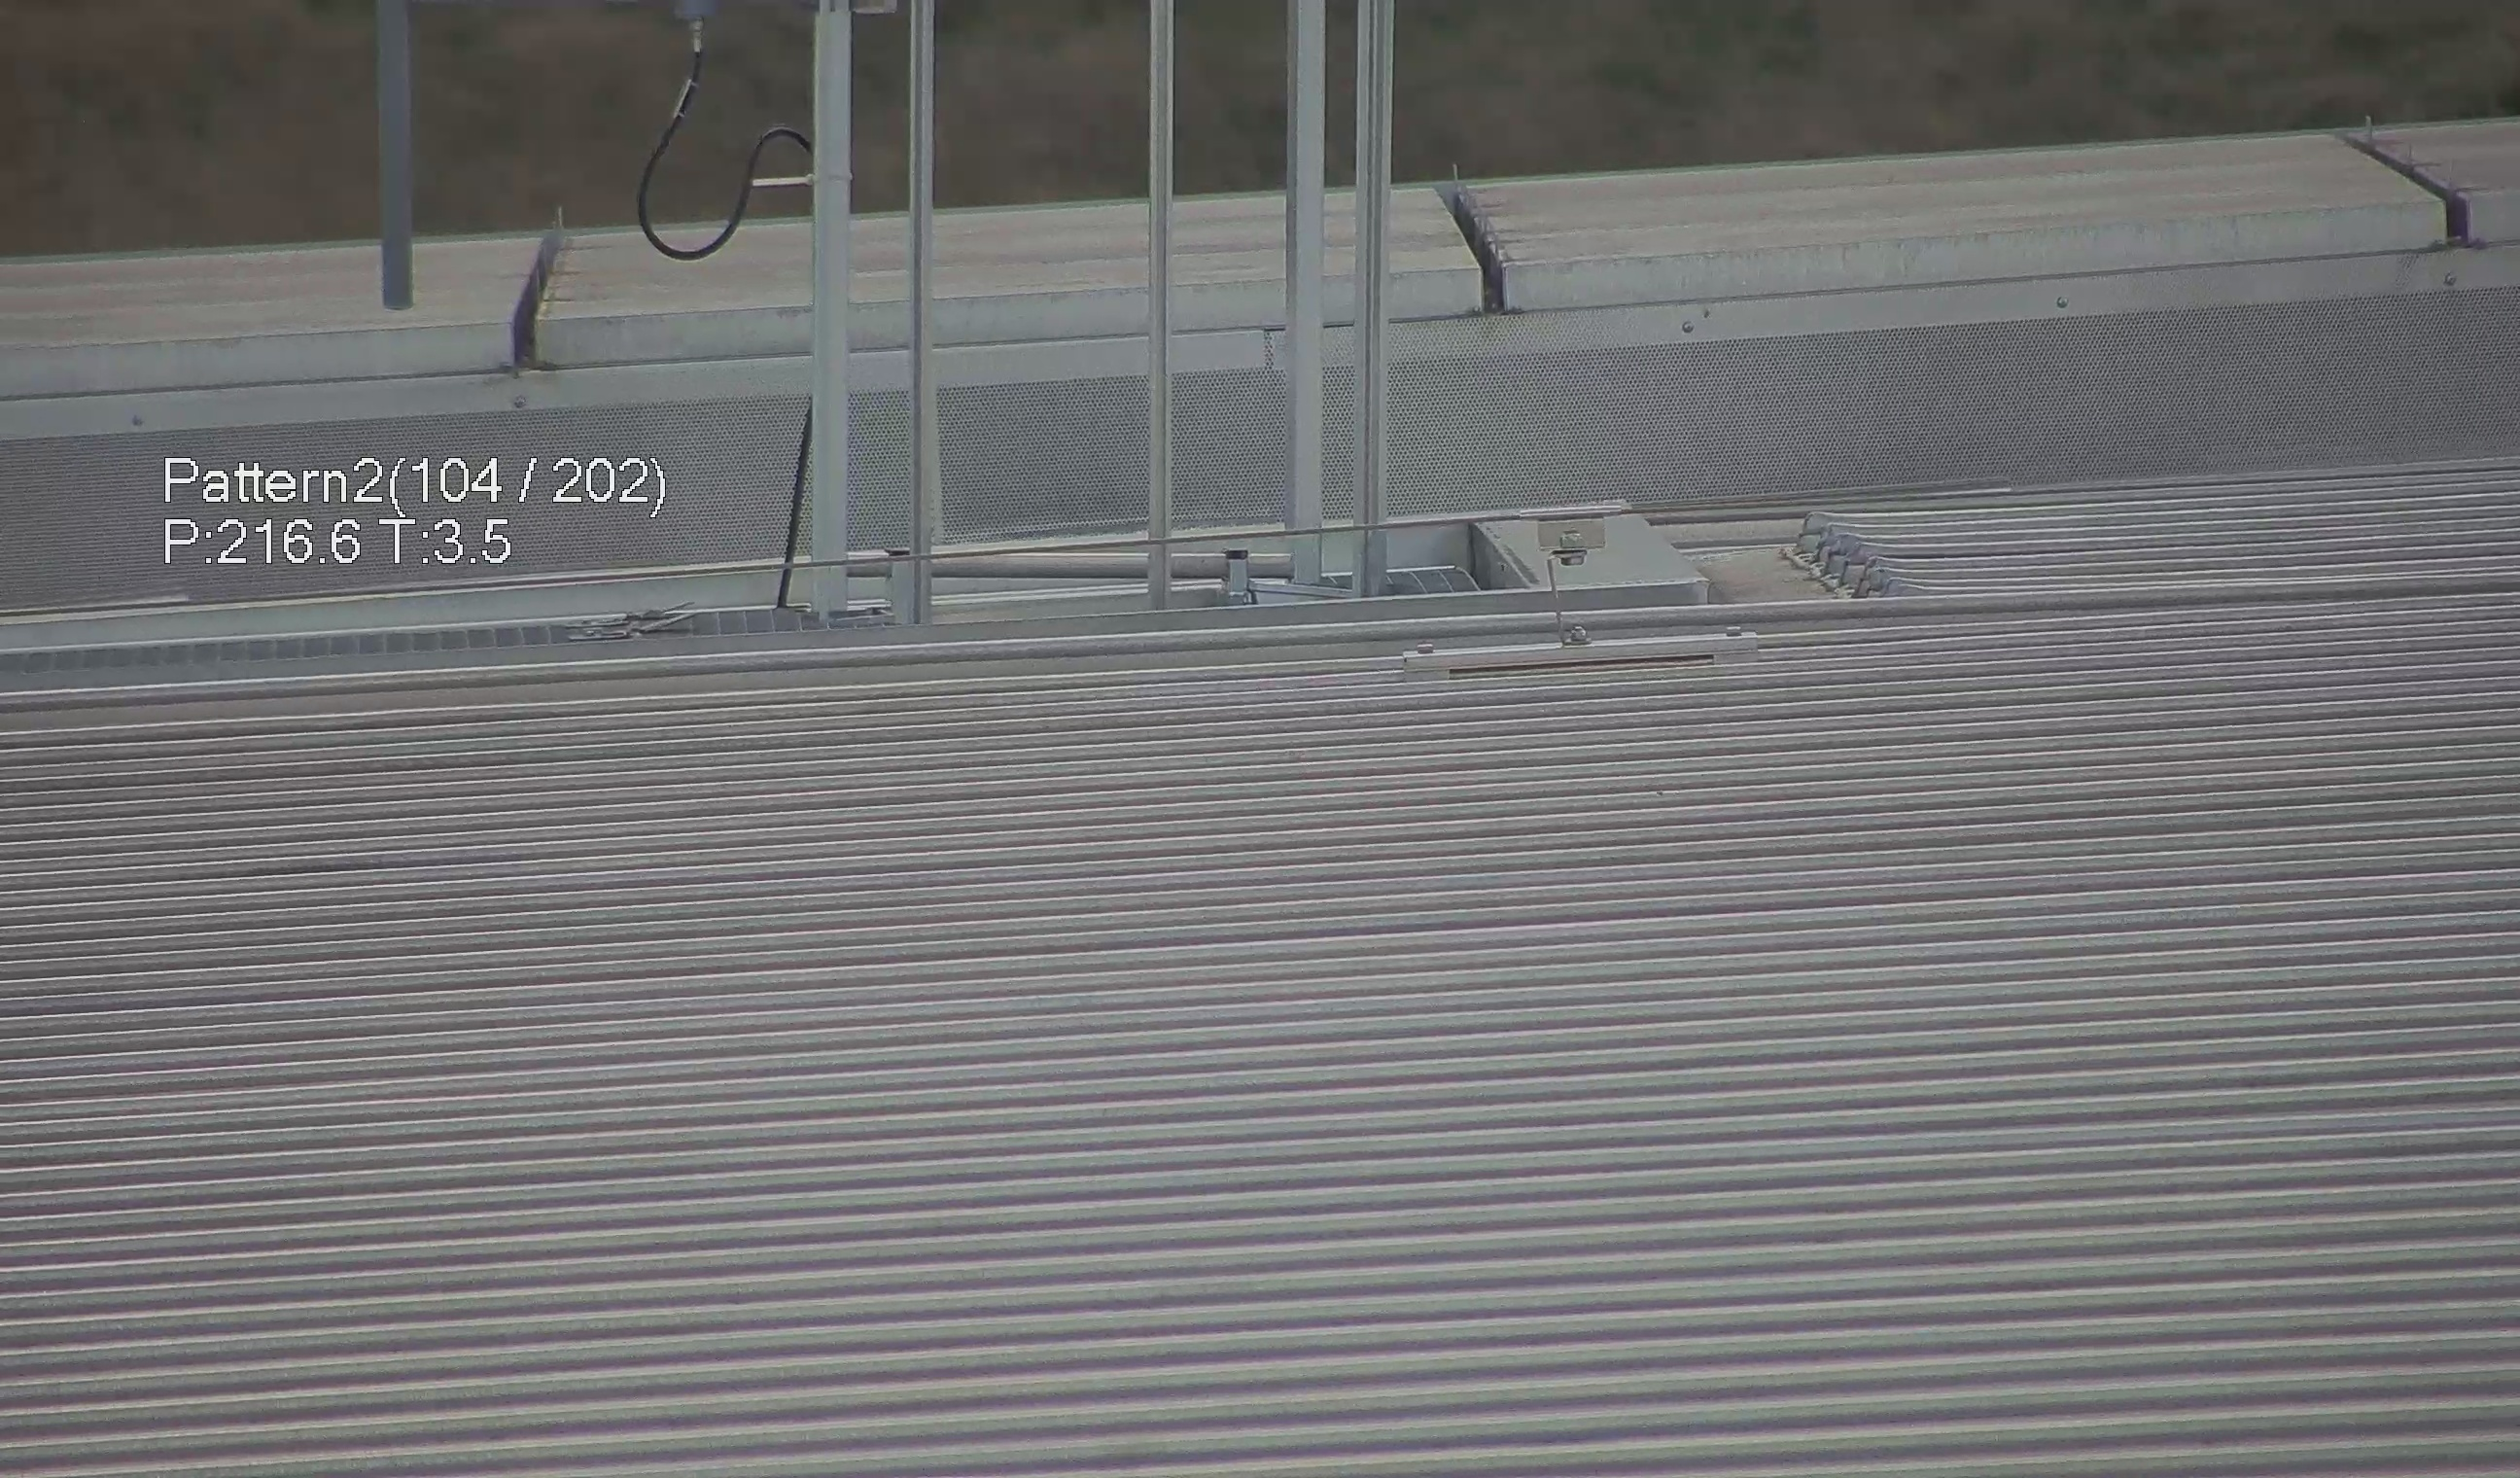Other: (1417, 153, 1525, 322)
